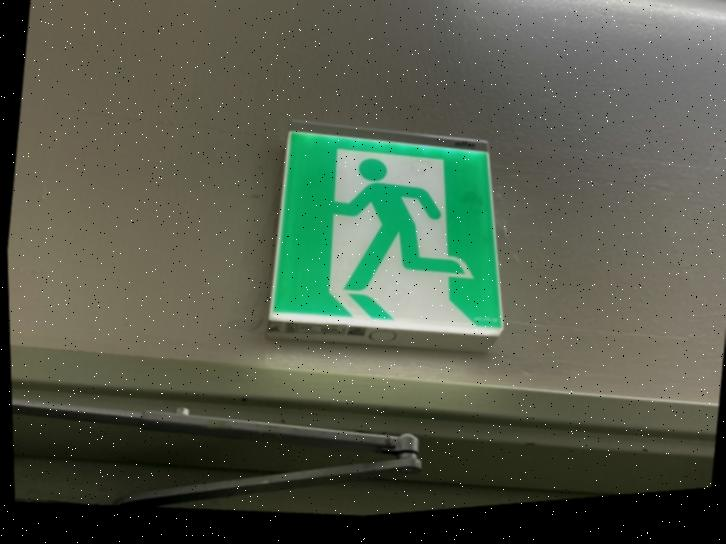emergency_exit: (266, 123, 505, 340)
